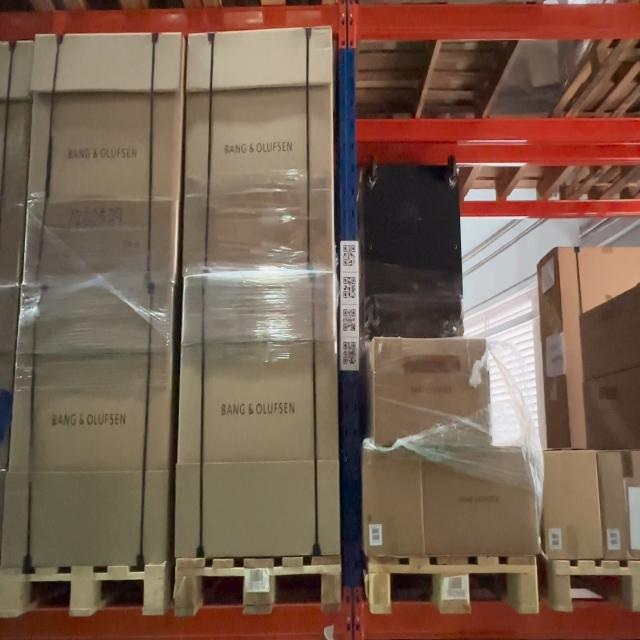box: (1, 284, 173, 568), (174, 268, 340, 561), (24, 32, 185, 282), (182, 26, 334, 276), (373, 337, 492, 449), (422, 447, 540, 555), (543, 450, 604, 560), (363, 449, 425, 557)
